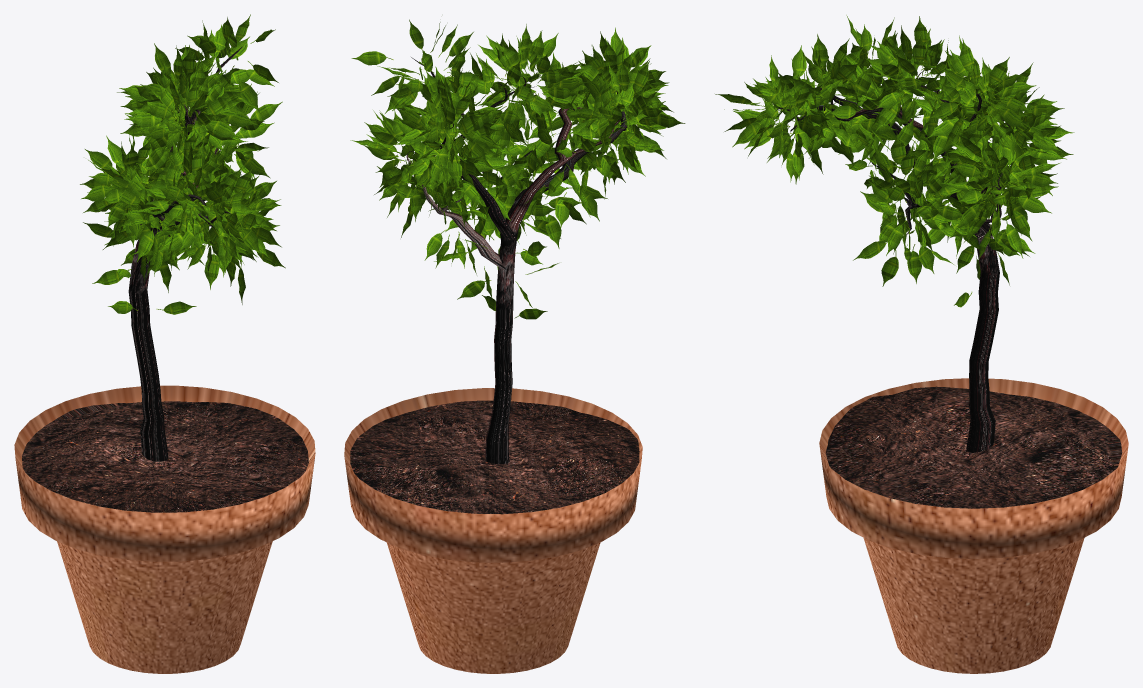
Rendered from lyocrypt-tree-2743.glb.
3 renders of one model, left to right at view 1: azimuth 30°, elevation 25°; view 2: azimuth 150°, elevation 25°; view 3: azimuth 270°, elevation 25°, orthographic. The views are drawn at different scales.
Parts seen in each view (by area): view 1: Tree pot, Plane, Trunk.004; view 2: Tree pot, Plane, Trunk.004; view 3: Tree pot, Plane, Trunk.004.
Part boxes in pixels (x1,y1,x2,y2): Tree pot: (14, 385, 315, 673); Plane: (22, 401, 308, 512); Trunk.004: (128, 46, 242, 461); Tree pot: (344, 388, 642, 673); Plane: (350, 400, 639, 514); Trunk.004: (406, 57, 627, 464); Tree pot: (819, 378, 1128, 673); Plane: (825, 386, 1122, 508); Trunk.004: (775, 70, 1009, 452).
Bounding box in the file's own units: 2.95 × 6.44 × 3.83.
Materials: 5 (5 with a texture image).
